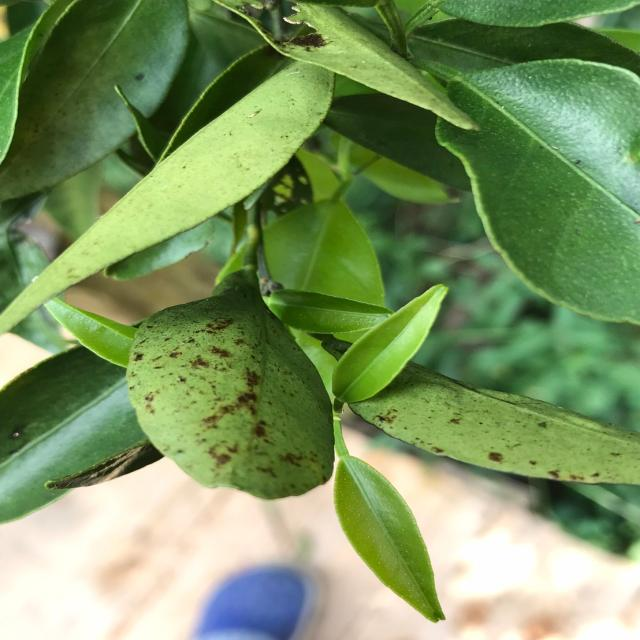melanose: (119, 279, 344, 506), (356, 332, 640, 502)
